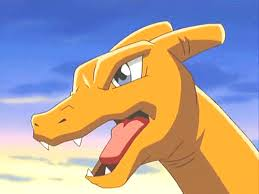charizard: (35, 18, 259, 190)
